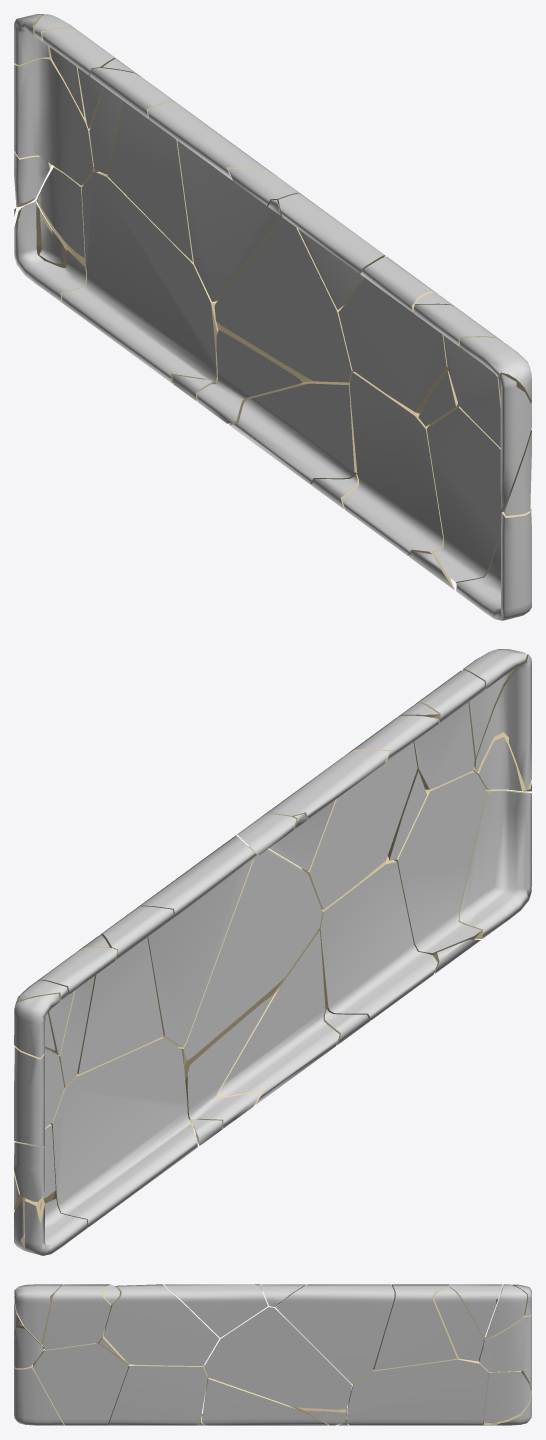
Rendered from Shattered Glass.fbx.
The picture shows the model from 3 angles, top to bottom: view 1: azimuth 30°, elevation 25°; view 2: azimuth 150°, elevation 25°; view 3: azimuth 270°, elevation 25°; orthographic projection. The views are drawn at different scales.
Parts seen in each view (by area): view 1: Glass_cell.040, Glass_cell.026, Glass_cell.042, Glass_cell.029, Glass_cell.037, Glass_cell.035, Glass_cell.048, Glass_cell.028, Glass_cell.010, Glass_cell.011, Glass_cell.045, Glass_cell.022 (+15 smaller); view 2: Glass_cell.040, Glass_cell.026, Glass_cell.042, Glass_cell.029, Glass_cell.035, Glass_cell.037, Glass_cell.048, Glass_cell.028, Glass_cell.022, Glass_cell.045, Glass_cell.011, Glass_cell.019 (+14 smaller); view 3: Glass_cell.026, Glass_cell.040, Glass_cell.029, Glass_cell.037, Glass_cell.035, Glass_cell.042, Glass_cell.028, Glass_cell.045, Glass_cell.048, Glass_cell.011, Glass_cell.010, Glass_cell.022 (+13 smaller).
Part boxes in pixels (left/top/right/bottom): Glass_cell.040: left=61, top=171, right=218, bottom=384; Glass_cell.026: left=214, top=218, right=354, bottom=385; Glass_cell.042: left=342, top=372, right=443, bottom=557; Glass_cell.029: left=148, top=101, right=283, bottom=301; Glass_cell.037: left=338, top=256, right=448, bottom=413; Glass_cell.035: left=427, top=403, right=505, bottom=583; Glass_cell.048: left=229, top=383, right=357, bottom=484; Glass_cell.028: left=90, top=68, right=193, bottom=261; Glass_cell.010: left=14, top=55, right=98, bottom=185; Glass_cell.011: left=278, top=193, right=385, bottom=309; Glass_cell.045: left=413, top=304, right=502, bottom=447; Glass_cell.022: left=456, top=505, right=531, bottom=620; Glass_cell.040: left=51, top=1037, right=197, bottom=1227; Glass_cell.026: left=177, top=846, right=322, bottom=1078; Glass_cell.042: left=317, top=856, right=437, bottom=1020; Glass_cell.029: left=136, top=835, right=257, bottom=1047; Glass_cell.035: left=387, top=771, right=486, bottom=955; Glass_cell.037: left=301, top=715, right=438, bottom=909; Glass_cell.048: left=217, top=930, right=339, bottom=1105; Glass_cell.028: left=77, top=906, right=174, bottom=1074; Glass_cell.022: left=458, top=790, right=531, bottom=939; Glass_cell.045: left=413, top=670, right=485, bottom=789; Glass_cell.011: left=260, top=750, right=389, bottom=871; Glass_cell.019: left=185, top=995, right=273, bottom=1128; Glass_cell.026: left=204, top=1307, right=351, bottom=1409; Glass_cell.040: left=346, top=1358, right=489, bottom=1425; Glass_cell.029: left=275, top=1284, right=394, bottom=1384; Glass_cell.037: left=103, top=1284, right=219, bottom=1365; Glass_cell.035: left=33, top=1343, right=128, bottom=1425; Glass_cell.042: left=106, top=1364, right=207, bottom=1425; Glass_cell.028: left=373, top=1284, right=458, bottom=1370; Glass_cell.045: left=43, top=1284, right=111, bottom=1349; Glass_cell.048: left=202, top=1376, right=327, bottom=1425; Glass_cell.011: left=164, top=1284, right=267, bottom=1337; Glass_cell.010: left=478, top=1314, right=531, bottom=1371; Glass_cell.022: left=14, top=1365, right=65, bottom=1425.
Bounding box in the file's own units: 4.25 × 28.38 × 98.77.
